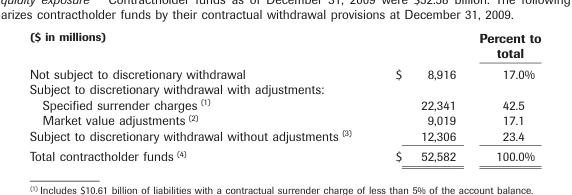table: (28, 29, 540, 163)
table column: (28, 29, 372, 163), (372, 29, 466, 163), (466, 29, 540, 163)
table column header: (28, 29, 540, 81)
table projected row header: (28, 81, 540, 96)
table row: (28, 29, 540, 81), (28, 127, 540, 145), (28, 145, 540, 163), (28, 111, 540, 127), (28, 81, 540, 96), (28, 96, 540, 111)
